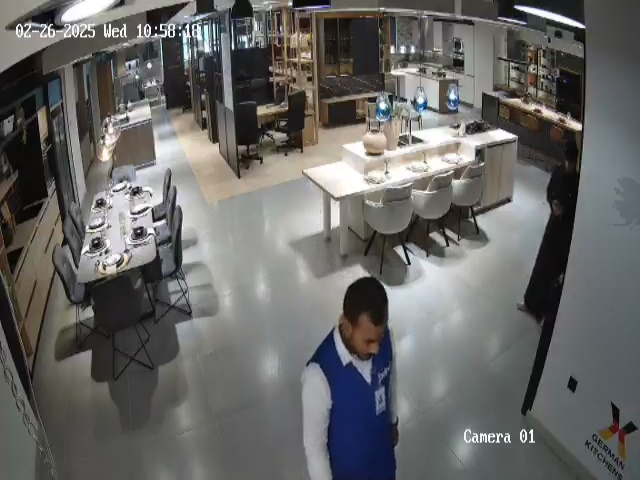employee: (300, 276, 400, 480)
male: (523, 139, 581, 311)
